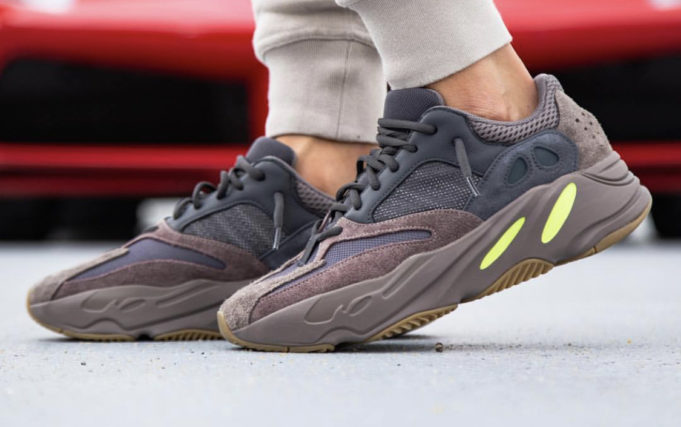adidas Yeezy 700 Mauve: (207, 70, 655, 356), (17, 118, 401, 345)
